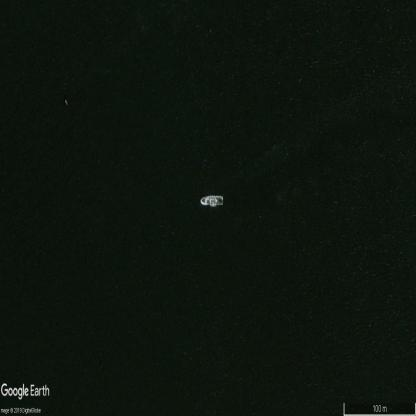ship: (200, 195, 223, 206)
